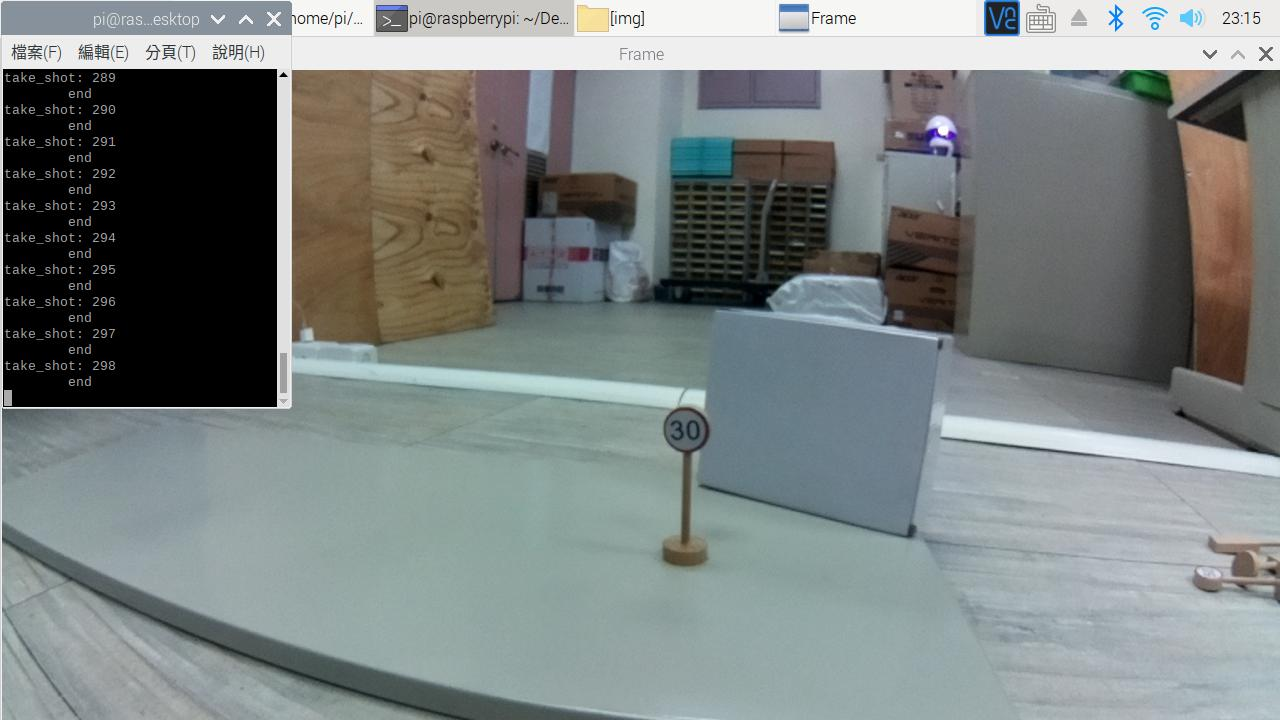Speed30: (660, 403, 720, 466)
